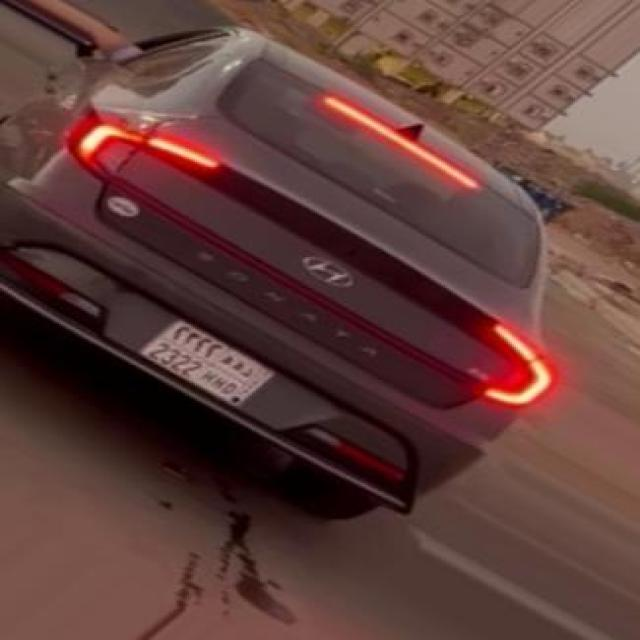Car-plate: (133, 289, 280, 422)
